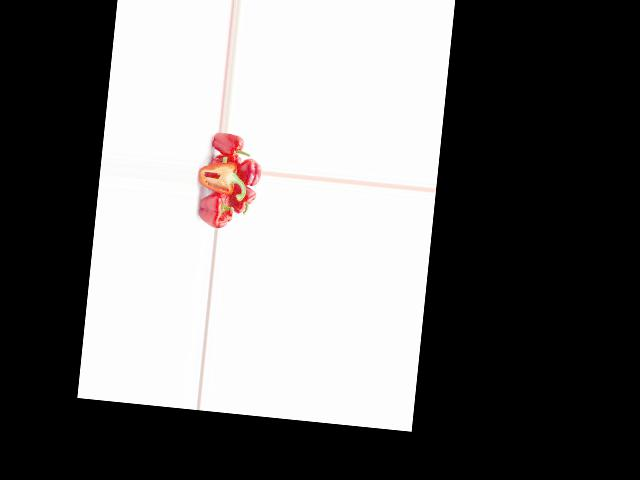bell_pepper: (230, 183, 257, 216)
